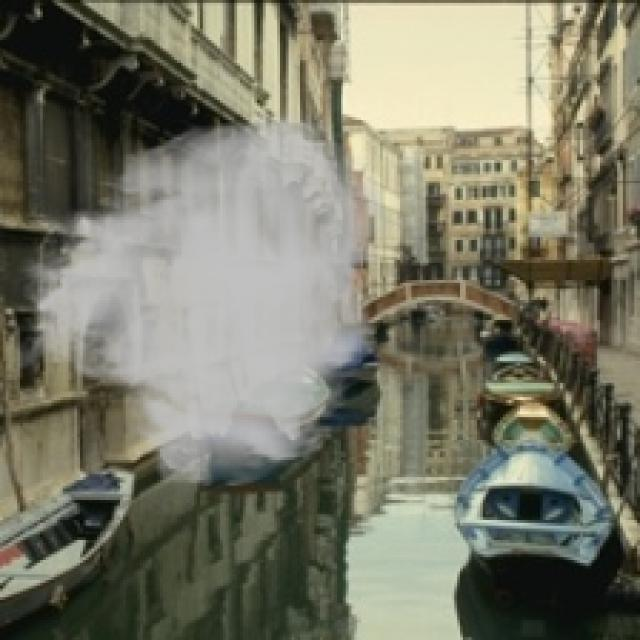Smoke: (8, 106, 394, 492)
